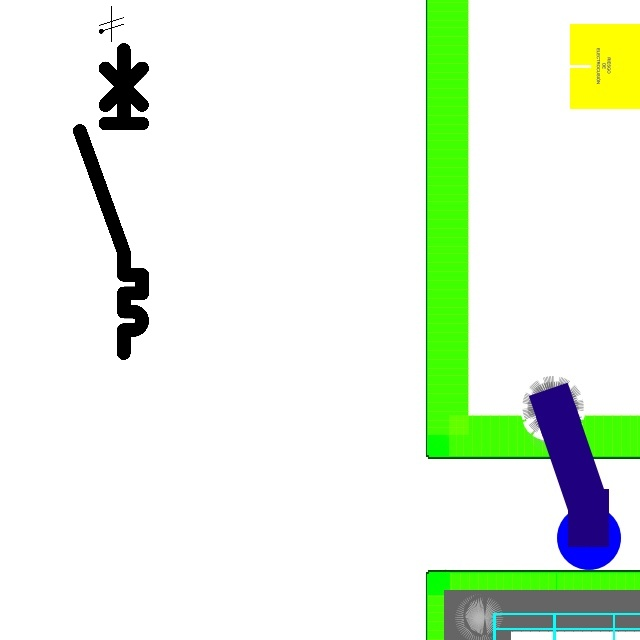interruptor_termomagnetico: (72, 42, 150, 361)
